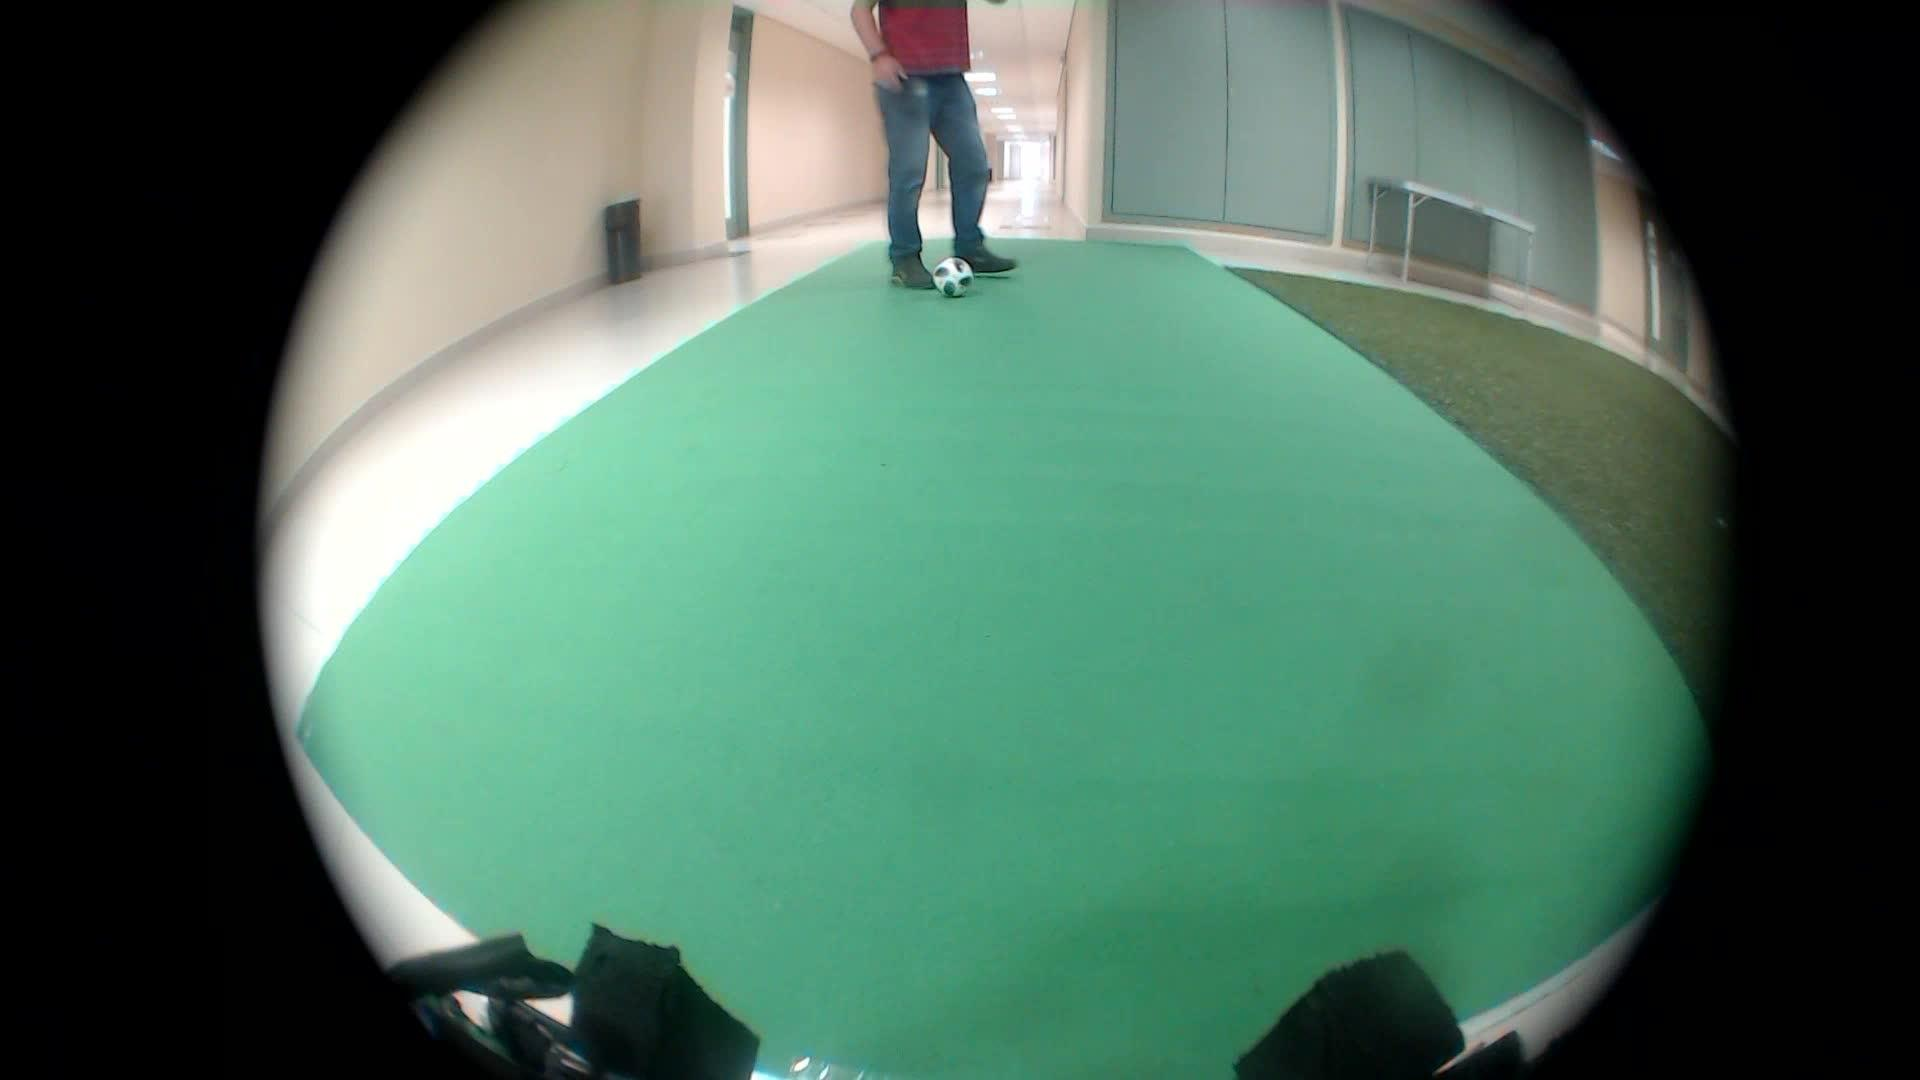ball: (928, 247, 980, 301)
